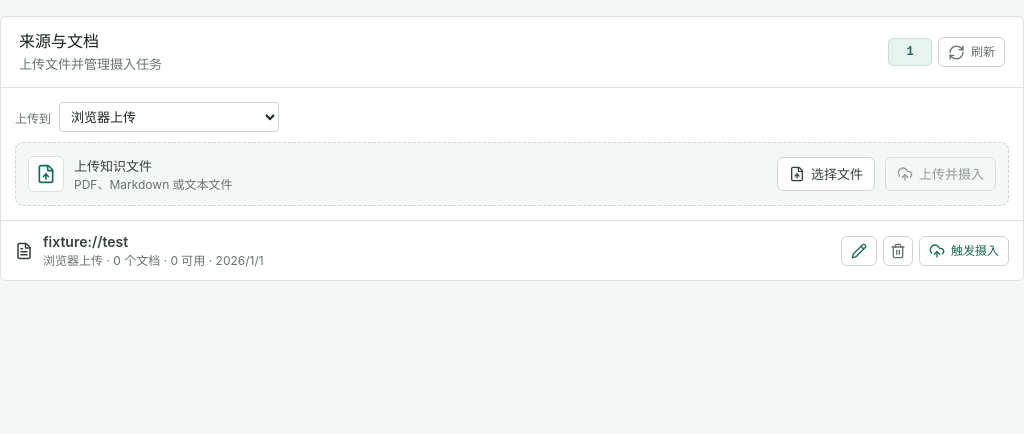
Scenario: SourcesPanel task controls › shows a Unicode document display name in the interface font
Click the text "fixture://test".
click(86, 242)  # box [43,233,128,250]
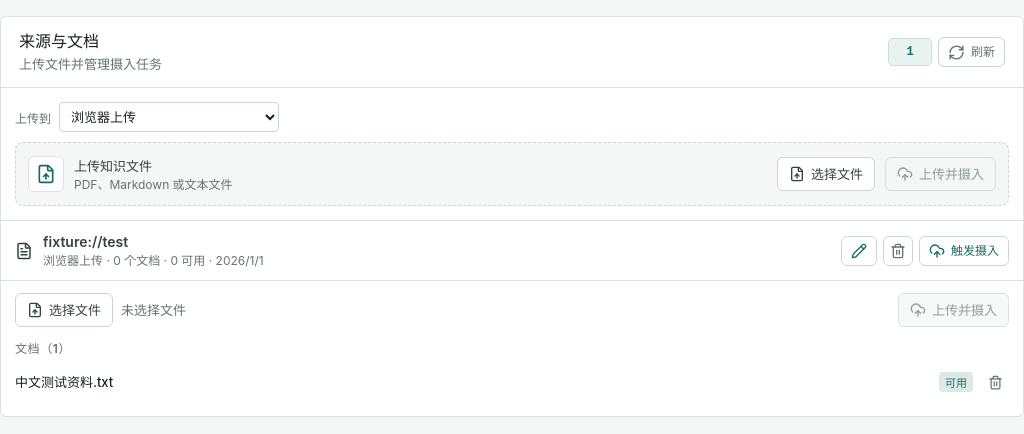
Now the text "中文测试资料.txt" is shown, box [15,374,113,390]
